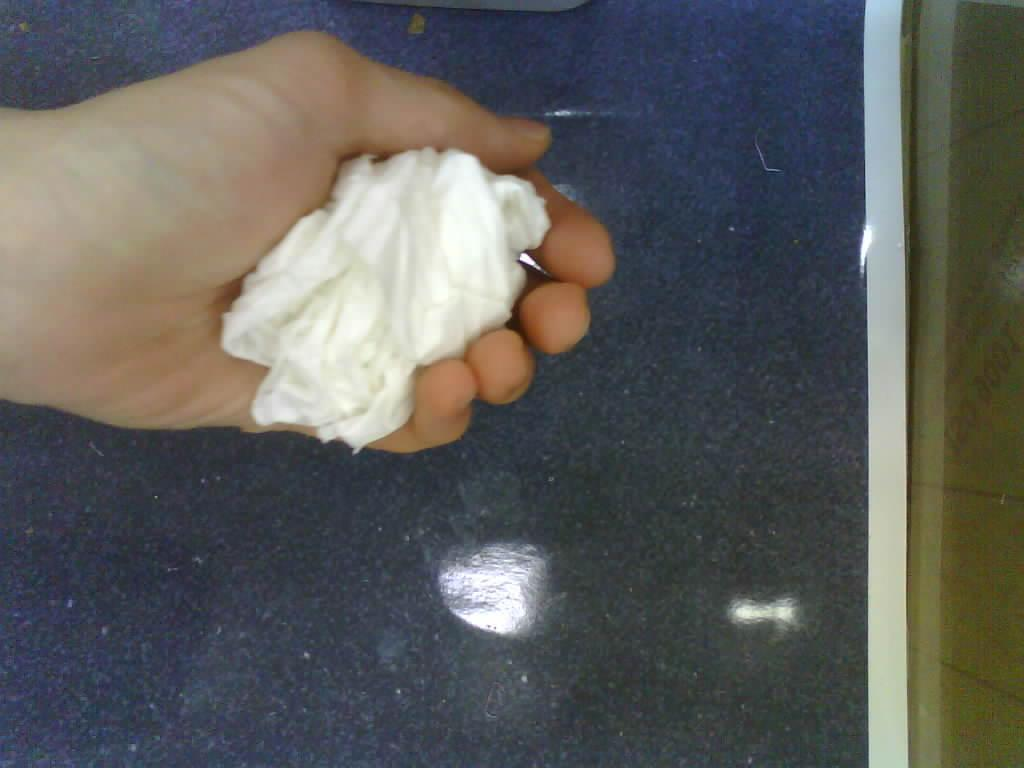paper: (222, 148, 550, 450)
